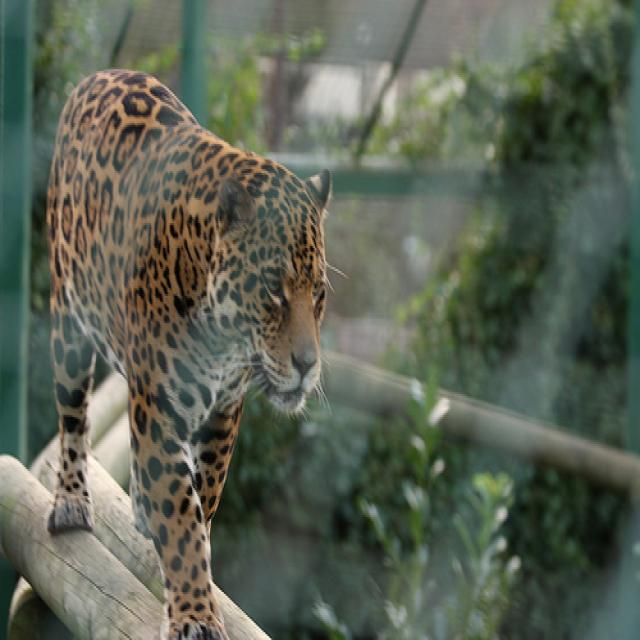Leopard: (43, 46, 338, 636)
